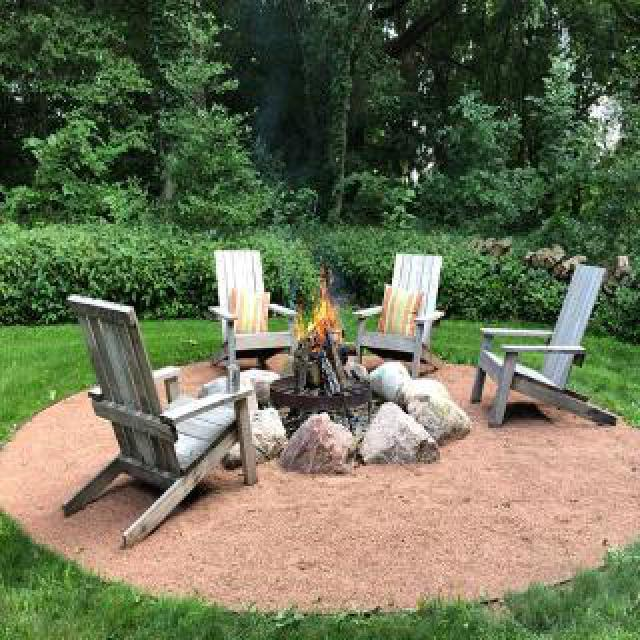zfire: (298, 274, 342, 344)
